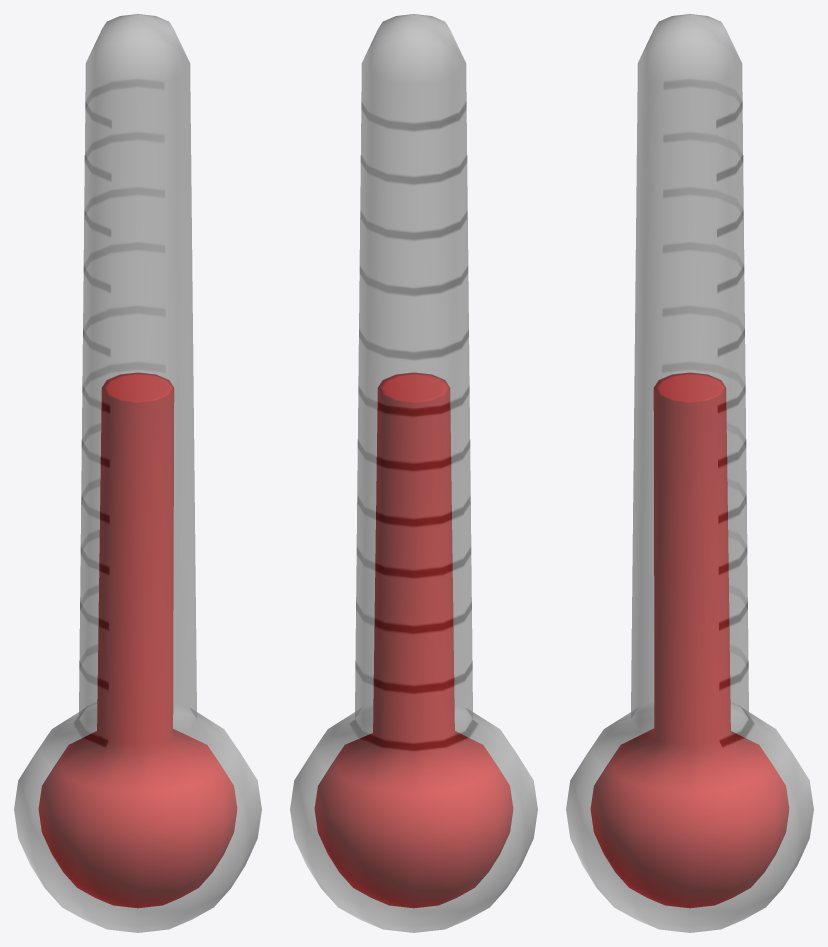
File: thermometer.fbx
3 renders of one model, left to right at view 1: azimuth 30°, elevation 25°; view 2: azimuth 150°, elevation 25°; view 3: azimuth 270°, elevation 25°, orthographic.
Visible parts, largest first — view 1: thermometer; view 2: thermometer; view 3: thermometer.
Part boxes in pixels (x1,y1,x2,y2): thermometer: (14, 14, 261, 932); thermometer: (290, 14, 537, 932); thermometer: (566, 14, 813, 932).
Bounding box in the file's own units: 1.78 × 7.17 × 1.78.
Materials: 2 (1 with a texture image).
